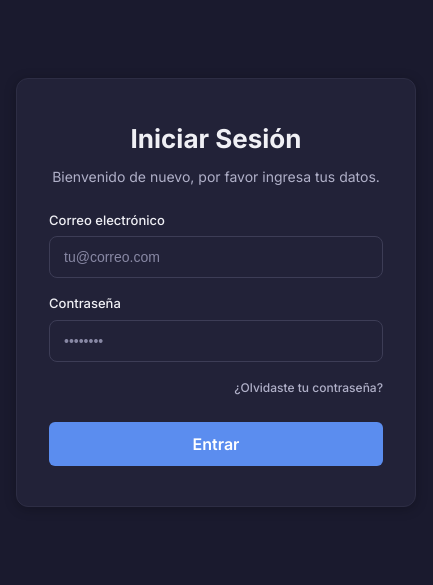
Test: LoginPage › valida que email y password sean obligatorios
Click the button "Entrar" at (216, 444), box [49,422,383,466]
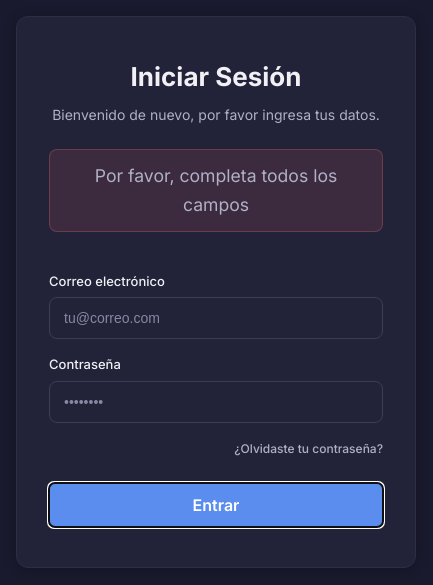
Check: the text "Por favor, completa todos los campos" is shown, box [49,149,383,232]
